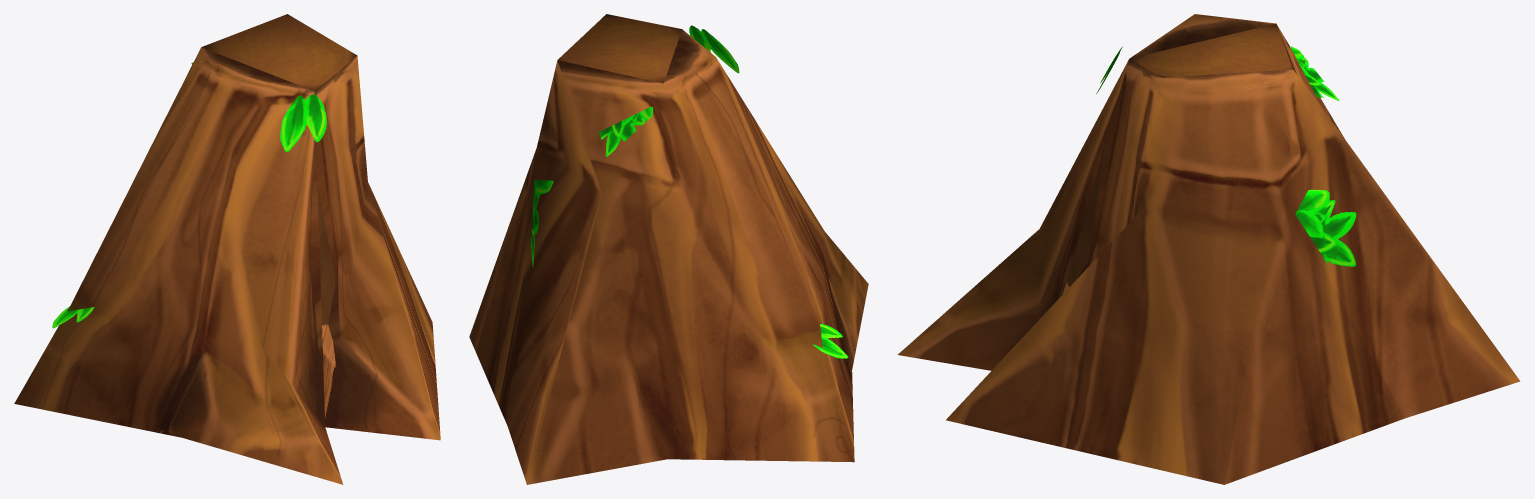
The model's file is 9_Tronco_Verde_Claro_LOD_2.fbx.
The picture shows the model from 3 angles, left to right: view 1: azimuth 30°, elevation 25°; view 2: azimuth 150°, elevation 25°; view 3: azimuth 270°, elevation 25°; orthographic projection. The views are drawn at different scales.
Visible parts, largest first — view 1: 9_Tronco_Verde_Claro_LOD_2; view 2: 9_Tronco_Verde_Claro_LOD_2; view 3: 9_Tronco_Verde_Claro_LOD_2.
Part boxes in pixels (x1,y1,x2,y2): 9_Tronco_Verde_Claro_LOD_2: (14,14,440,484); 9_Tronco_Verde_Claro_LOD_2: (469,14,868,484); 9_Tronco_Verde_Claro_LOD_2: (898,14,1520,484).
Size of the model in its own units: 187 by 145 by 228.
